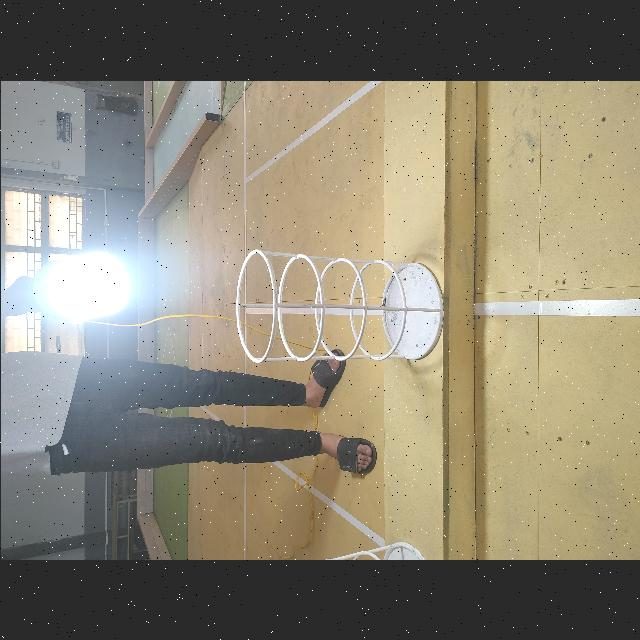S: (234, 248, 446, 362), (322, 539, 429, 560)
